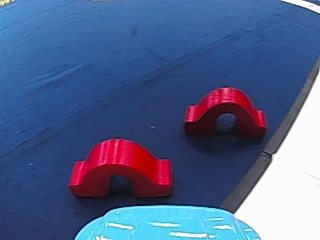bridge: (65, 132, 176, 199), (182, 82, 271, 140)
